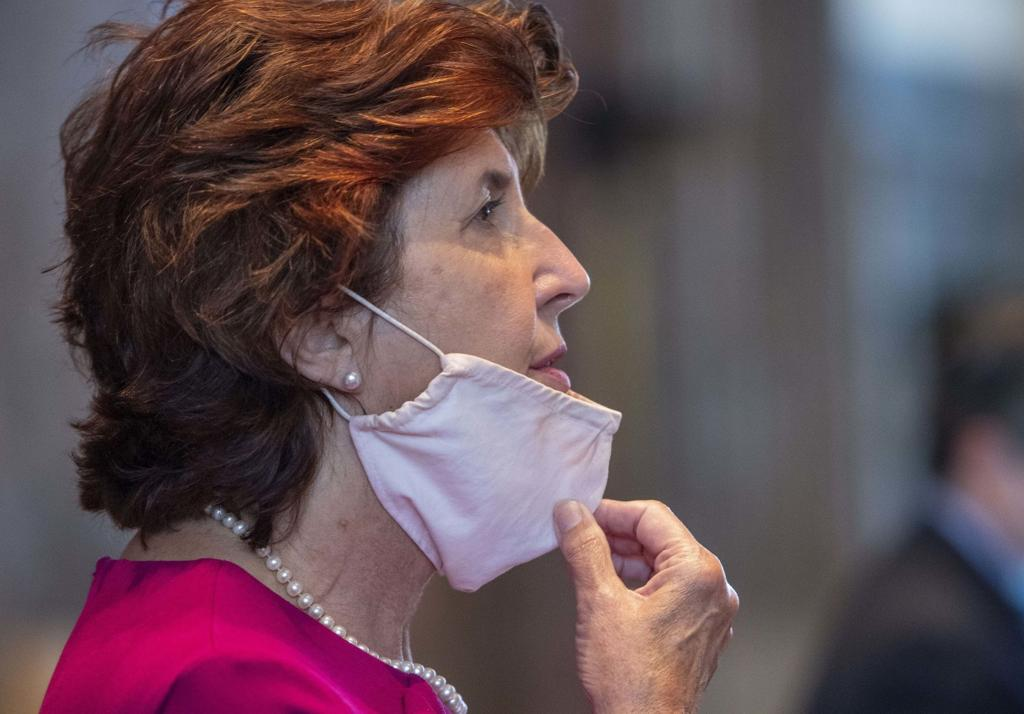mouth: (529, 341, 571, 386)
nose: (532, 269, 591, 310)
